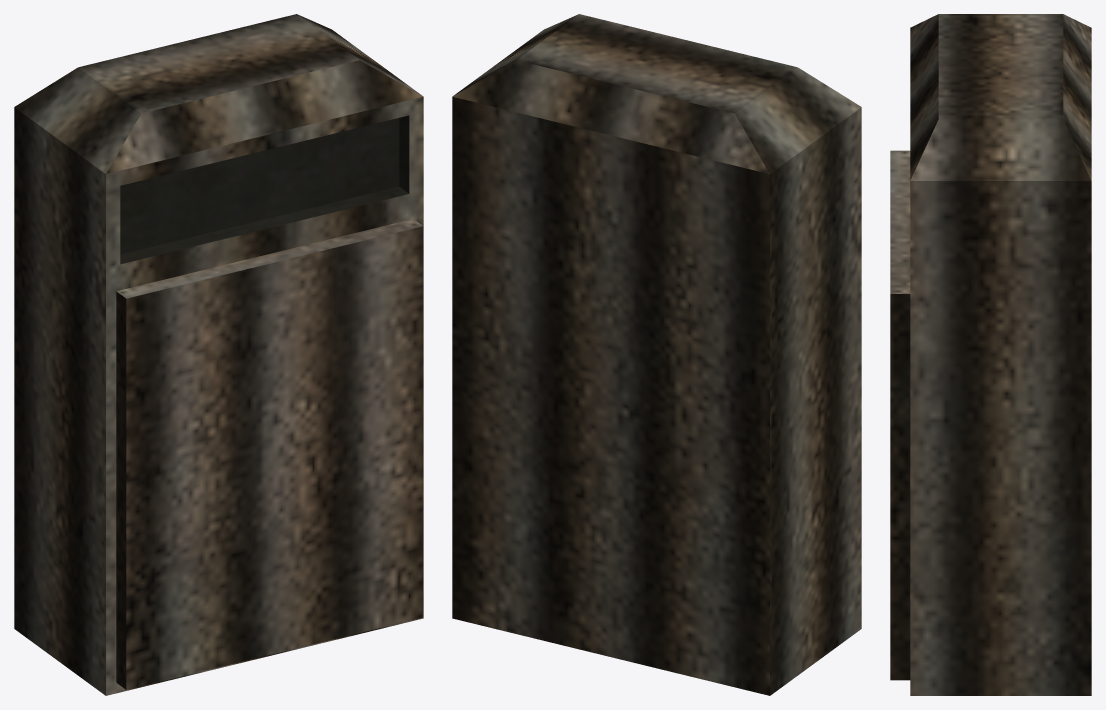
The model's file is PasswordMachine.fbx.
3 renders of one model, left to right at view 1: azimuth 30°, elevation 25°; view 2: azimuth 150°, elevation 25°; view 3: azimuth 270°, elevation 25°, orthographic.
Parts seen in each view (by area): view 1: Cube; view 2: Cube; view 3: Cube.
Part boxes in pixels (box(x1,y1,x2,y2)): Cube: box(14, 14, 423, 695); Cube: box(452, 14, 861, 695); Cube: box(890, 14, 1091, 695).
Bounding box in the file's own units: 75.29 × 127 × 41.76.
